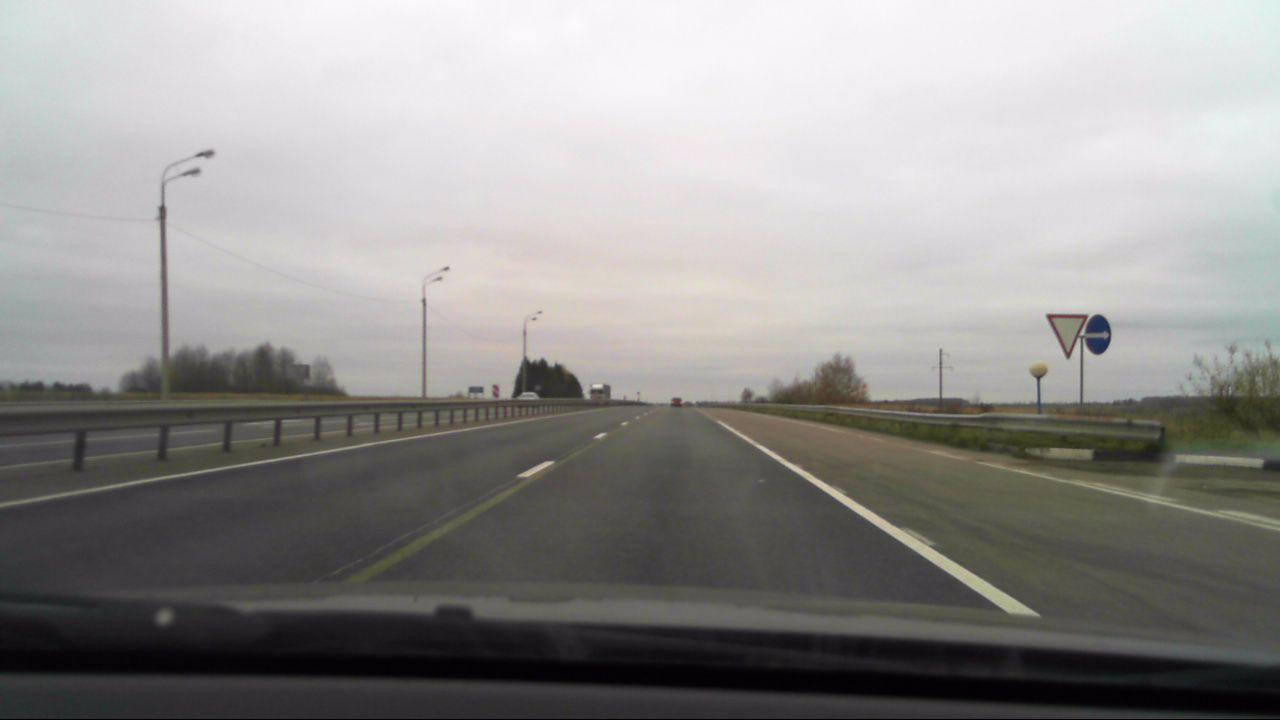2_4: (1044, 311, 1087, 359)
4_2_1: (1082, 314, 1114, 357)
